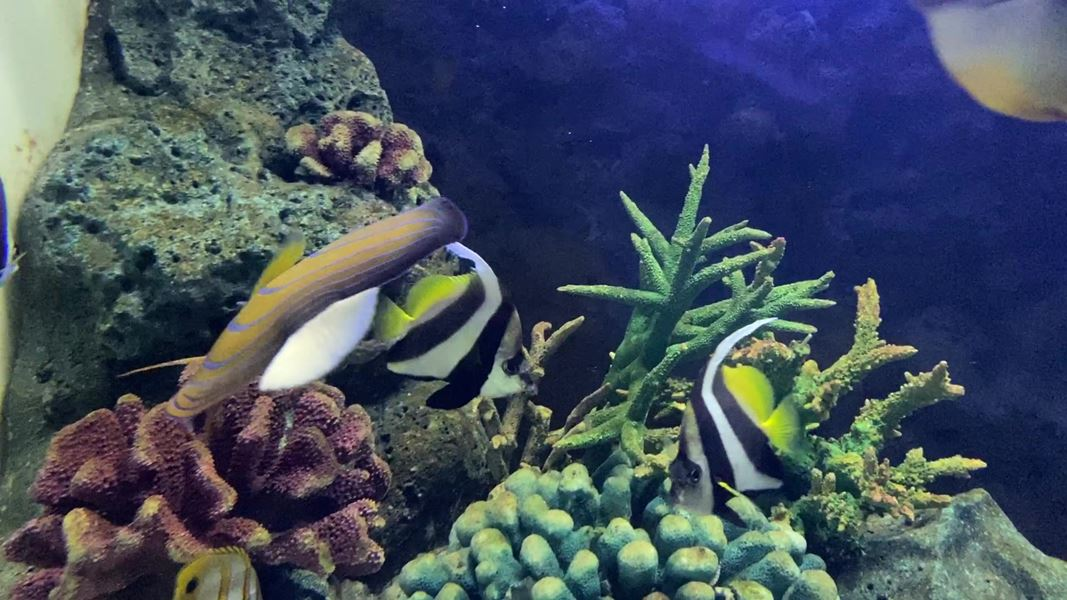Blue ring angelfish: (150, 203, 490, 421)
